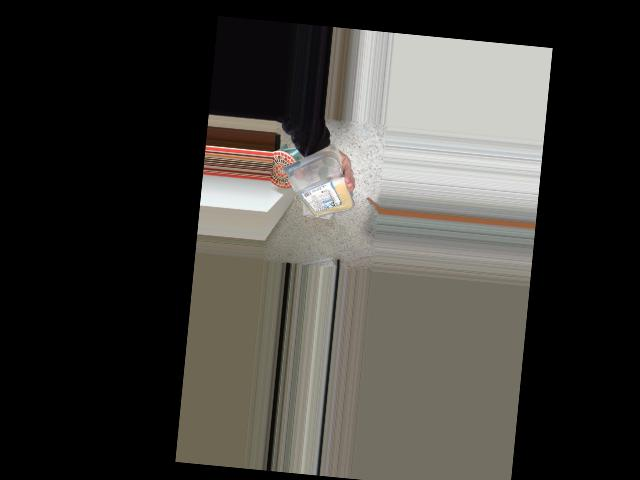cheese: (277, 145, 349, 225)
